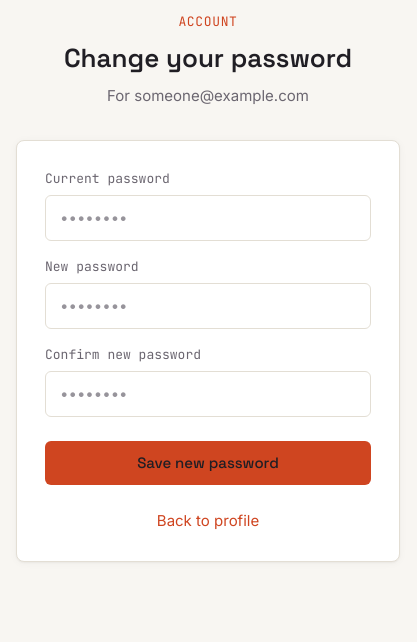
ChangePasswordPage › blocks submission when the new passwords do not match
Type "oldpassword" into the password field with placeholder "••••••••".
click(208, 218); type("oldpassword")  # box [45, 195, 371, 241]
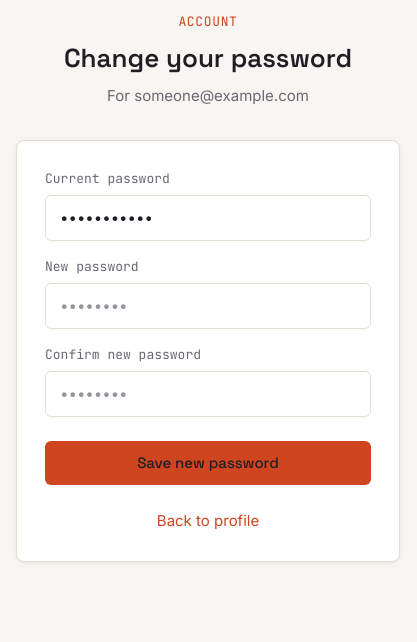
Type "newpassword1" into the password field with placeholder "••••••••".
click(208, 306); type("newpassword1")  # box [45, 283, 371, 329]
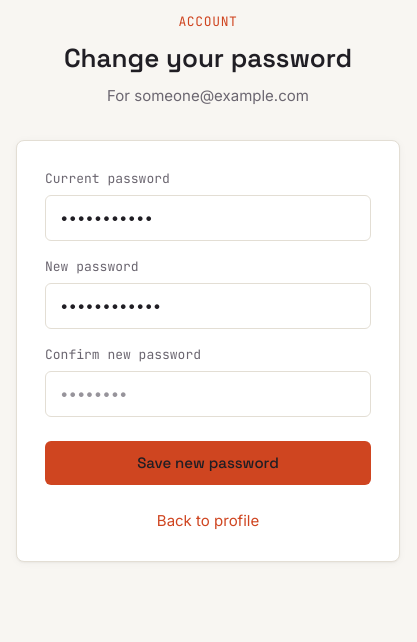
Type "somethingelse1" into the password field with placeholder "••••••••".
click(208, 394); type("somethingelse1")  # box [45, 371, 371, 417]
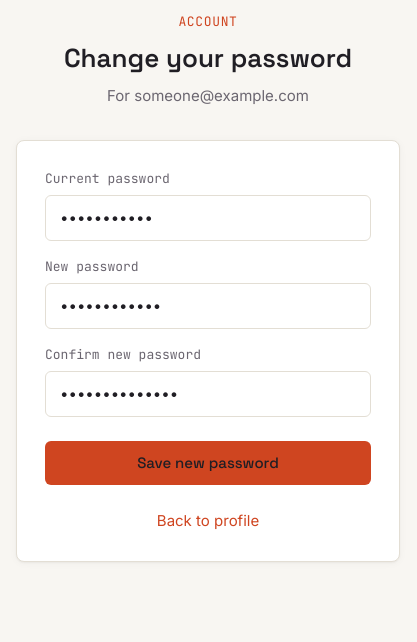
Click the button "Save new password".
click(208, 463)  # box [45, 441, 371, 485]
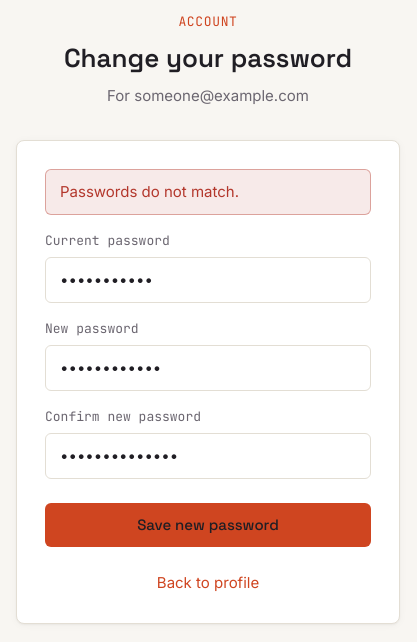
Now the text "Passwords do not match." is shown, box [45, 169, 371, 215]
